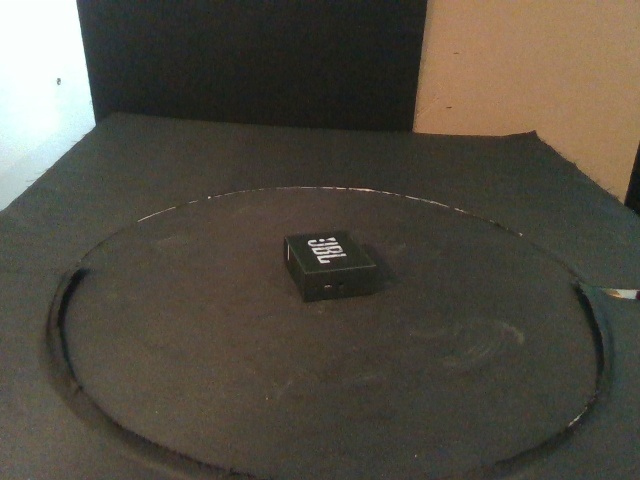speaker: (283, 231, 378, 300)
